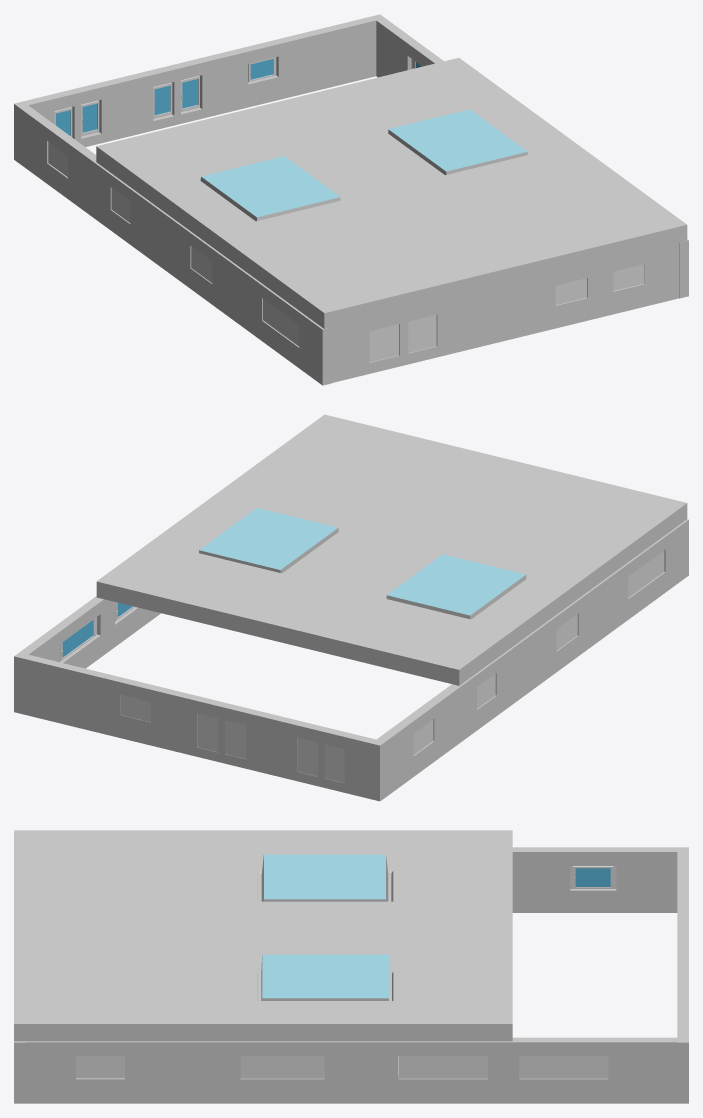
The model's file is Umriss_alles.zsm..fbx.
3 renders of one model, top to bottom at view 1: azimuth 30°, elevation 25°; view 2: azimuth 150°, elevation 25°; view 3: azimuth 270°, elevation 25°, orthographic. The views are drawn at different scales.
Parts seen in each view (by area): view 1: Fenster; view 2: Fenster; view 3: Fenster.
Boxes of the visible parts, x1,y1,x2,y2 form: Fenster: (14, 14, 688, 385); Fenster: (14, 414, 688, 801); Fenster: (14, 830, 688, 1103).
Bounding box in the file's own units: 4802 × 916 × 7016.
